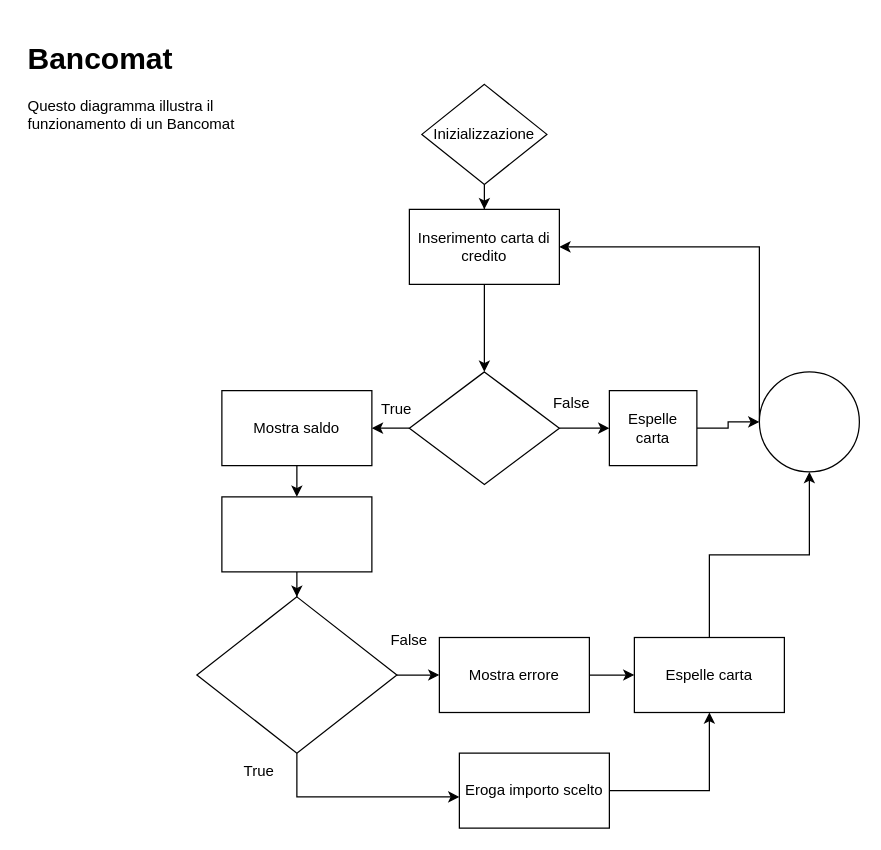
Some shapes in this 881 by 850 pixel diagram are drawn without their labels. Here are the shapes that lost their labels. From the top down, the box of each, then its label:
(408, 371, 559, 484): IF carta di credito valida
(758, 371, 859, 472): Return to inserimento carta di credito
(221, 496, 372, 572): Inserimento importo da prelevare
(196, 596, 397, 753): IF importo da prelevare maggiore del saldo
